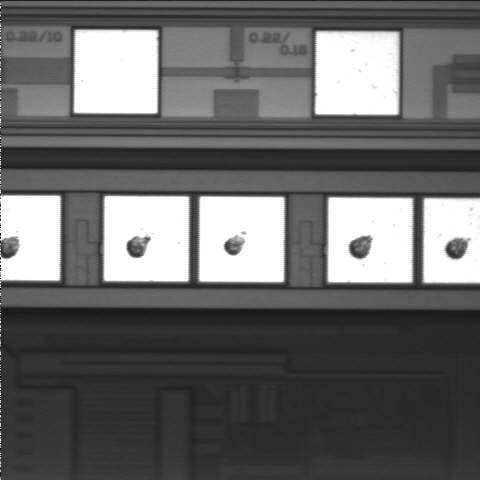pad: (104, 196, 189, 281), (199, 197, 284, 282), (328, 198, 412, 282), (74, 30, 158, 113), (315, 32, 399, 115)
